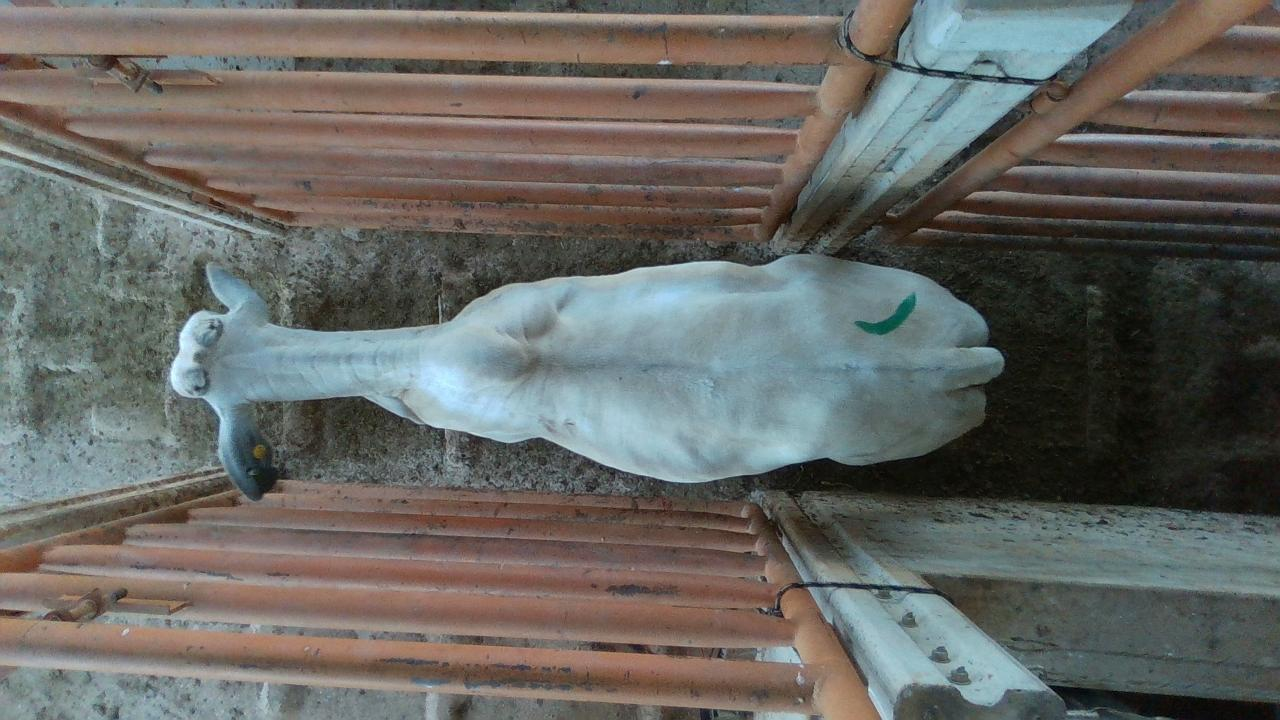cattle: (168, 251, 1005, 501)
